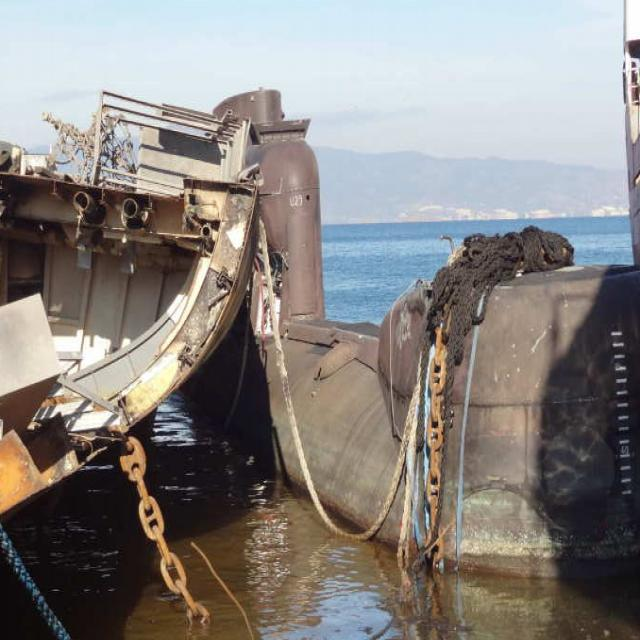submarine: (219, 77, 640, 572)
